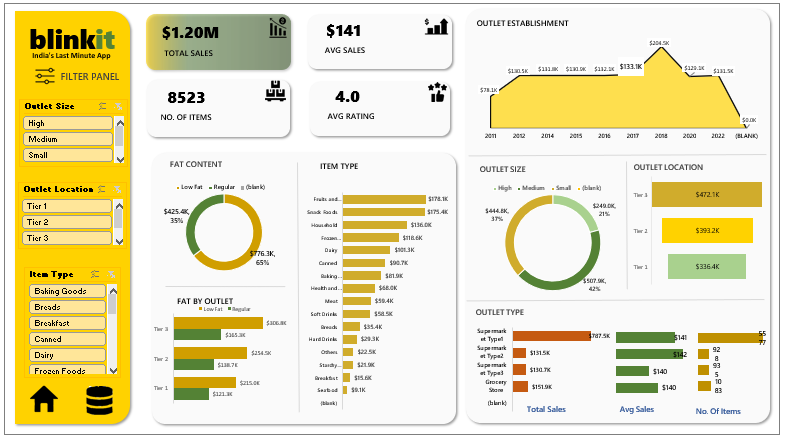

The dashboard page shown, as its layout file describes it:
{"tool":"powerbi","page":{"name":"Page 1","canvas":[1400,800],"ordinal":0},"visuals":[{"type":"shape","box":[10,0,205,750],"z":0},{"type":"textbox","box":[262.7,312.3,203.9,437.3],"z":1000},{"type":"textbox","box":[22,18.4,192.9,80.8],"z":2000},{"type":"textbox","box":[40.4,82.7,159.8,36.7],"z":3000},{"type":"cardVisual","fields":{"Data":["BlinkIT Grocery Data.Total Sales","BlinkIT Grocery Data.Avg Sales","BlinkIT Grocery Data.No Of Items","BlinkIT Grocery Data.Avg Rating"]},"box":[211,0,568.5,269.3],"z":4000},{"type":"shape","box":[214.2,264.6,554.3,500.8],"z":5000},{"type":"donutChart","title":"FAT CONTENT","fields":{"Y":["BlinkIT Grocery Data.Total Sales"],"Category":["BlinkIT Grocery Data.Item Fat Content"]},"box":[236.2,316.5,220.5,229.9],"z":6000},{"type":"slicer","fields":{"Values":["Metrics.Metrics"]},"box":[263,277.2,465,40],"z":7000},{"type":"cardVisual","fields":{"Data":["BlinkIT Grocery Data.Total Sales"]},"box":[280.3,418.9,132.3,66.1],"z":8000},{"type":"clusteredBarChart","title":"FAT BY OUTLET","fields":{"Y":["BlinkIT Grocery Data.Total Sales"],"Category":["BlinkIT Grocery Data.Outlet Location Type"],"Series":["BlinkIT Grocery Data.Item Fat Content"]},"box":[237.8,546.5,220.5,229.9],"z":9000},{"type":"shape","box":[236.2,508.7,222,63],"z":10000},{"type":"shape","box":[368.5,322.8,198.4,433.1],"z":11000},{"type":"barChart","title":"ITEM TYPE","fields":{"Category":["BlinkIT Grocery Data.Item Type"],"Y":["BlinkIT Grocery Data.Total Sales"]},"box":[480.3,318.1,272.4,437.8],"z":11001},{"type":"shape","box":[768.5,18.9,617.3,746.5],"z":11002},{"type":"lineChart","title":"OUTLET ESTABLISHMENT","fields":{"Y":["BlinkIT Grocery Data.Total Sales"],"Category":["BlinkIT Grocery Data.Outlet Establishment Year"]},"box":[779.5,33.1,606.3,236.2],"z":11003},{"type":"shape","box":[779.5,237.8,606.3,63],"z":11004},{"type":"donutChart","title":"OUTLET SIZE","fields":{"Y":["BlinkIT Grocery Data.Total Sales"],"Category":["BlinkIT Grocery Data.Outlet Size"]},"box":[779.5,289.8,259.8,225.2],"z":11005},{"type":"shape","box":[940.2,278.7,198.4,242.5],"z":11006},{"type":"funnel","title":"OUTLET LOCATION","fields":{"Y":["Sum(BlinkIT Grocery Data.Sales)"],"Category":["BlinkIT Grocery Data.Outlet Location Type"]},"box":[1050.4,289.8,321.3,229.9],"z":11007},{"type":"shape","box":[779.5,499.2,595.3,63],"z":11008},{"type":"pivotTable","title":"OUTLET TYPE","fields":{"Rows":["BlinkIT Grocery Data.Outlet Type"],"Values":["Sum(BlinkIT Grocery Data.Sales)","BlinkIT Grocery Data.No Of Items","BlinkIT Grocery Data.Avg Sales","BlinkIT Grocery Data.Avg Rating","Avg(BlinkIT Grocery Data.Item Visibility)"]},"box":[779.5,540.2,592.1,206.3],"z":11009},{"type":"slicer","fields":{"Values":["BlinkIT Grocery Data.Outlet Location Type"]},"box":[22,229.9,179.5,67.7],"z":11010},{"type":"slicer","fields":{"Values":["BlinkIT Grocery Data.Outlet Size"]},"box":[22,311.8,179.5,67.7],"z":11011},{"type":"slicer","fields":{"Values":["BlinkIT Grocery Data.Item Type"]},"box":[22,392.1,179.5,67.7],"z":11012},{"type":"textbox","box":[22,200,179.5,37.8],"z":11013}]}

Visuals, with their boxes in screenshot pixels (x1, y1, x2, y2), scaled from the page's 1400x800 canvas onto the 786x438 screenshot:
shape: bbox=(6, 0, 121, 411)
textbox: bbox=(147, 171, 262, 410)
textbox: bbox=(12, 10, 121, 54)
textbox: bbox=(23, 45, 112, 65)
cardVisual - BlinkIT Grocery Data.Total Sales x BlinkIT Grocery Data.Avg Sales: bbox=(118, 0, 438, 147)
shape: bbox=(120, 145, 431, 419)
"FAT CONTENT" donutChart: bbox=(133, 173, 256, 299)
slicer - Metrics.Metrics: bbox=(148, 152, 409, 174)
cardVisual - BlinkIT Grocery Data.Total Sales: bbox=(157, 229, 232, 266)
"FAT BY OUTLET" clusteredBarChart: bbox=(134, 299, 257, 425)
shape: bbox=(133, 279, 257, 313)
shape: bbox=(207, 177, 318, 414)
"ITEM TYPE" barChart: bbox=(270, 174, 423, 414)
shape: bbox=(431, 10, 778, 419)
"OUTLET ESTABLISHMENT" lineChart: bbox=(438, 18, 778, 147)
shape: bbox=(438, 130, 778, 165)
"OUTLET SIZE" donutChart: bbox=(438, 159, 583, 282)
shape: bbox=(528, 153, 639, 285)
"OUTLET LOCATION" funnel: bbox=(590, 159, 770, 285)
shape: bbox=(438, 273, 772, 308)
"OUTLET TYPE" pivotTable: bbox=(438, 296, 770, 409)
slicer - BlinkIT Grocery Data.Outlet Location Type: bbox=(12, 126, 113, 163)
slicer - BlinkIT Grocery Data.Outlet Size: bbox=(12, 171, 113, 208)
slicer - BlinkIT Grocery Data.Item Type: bbox=(12, 215, 113, 252)
textbox: bbox=(12, 110, 113, 130)
